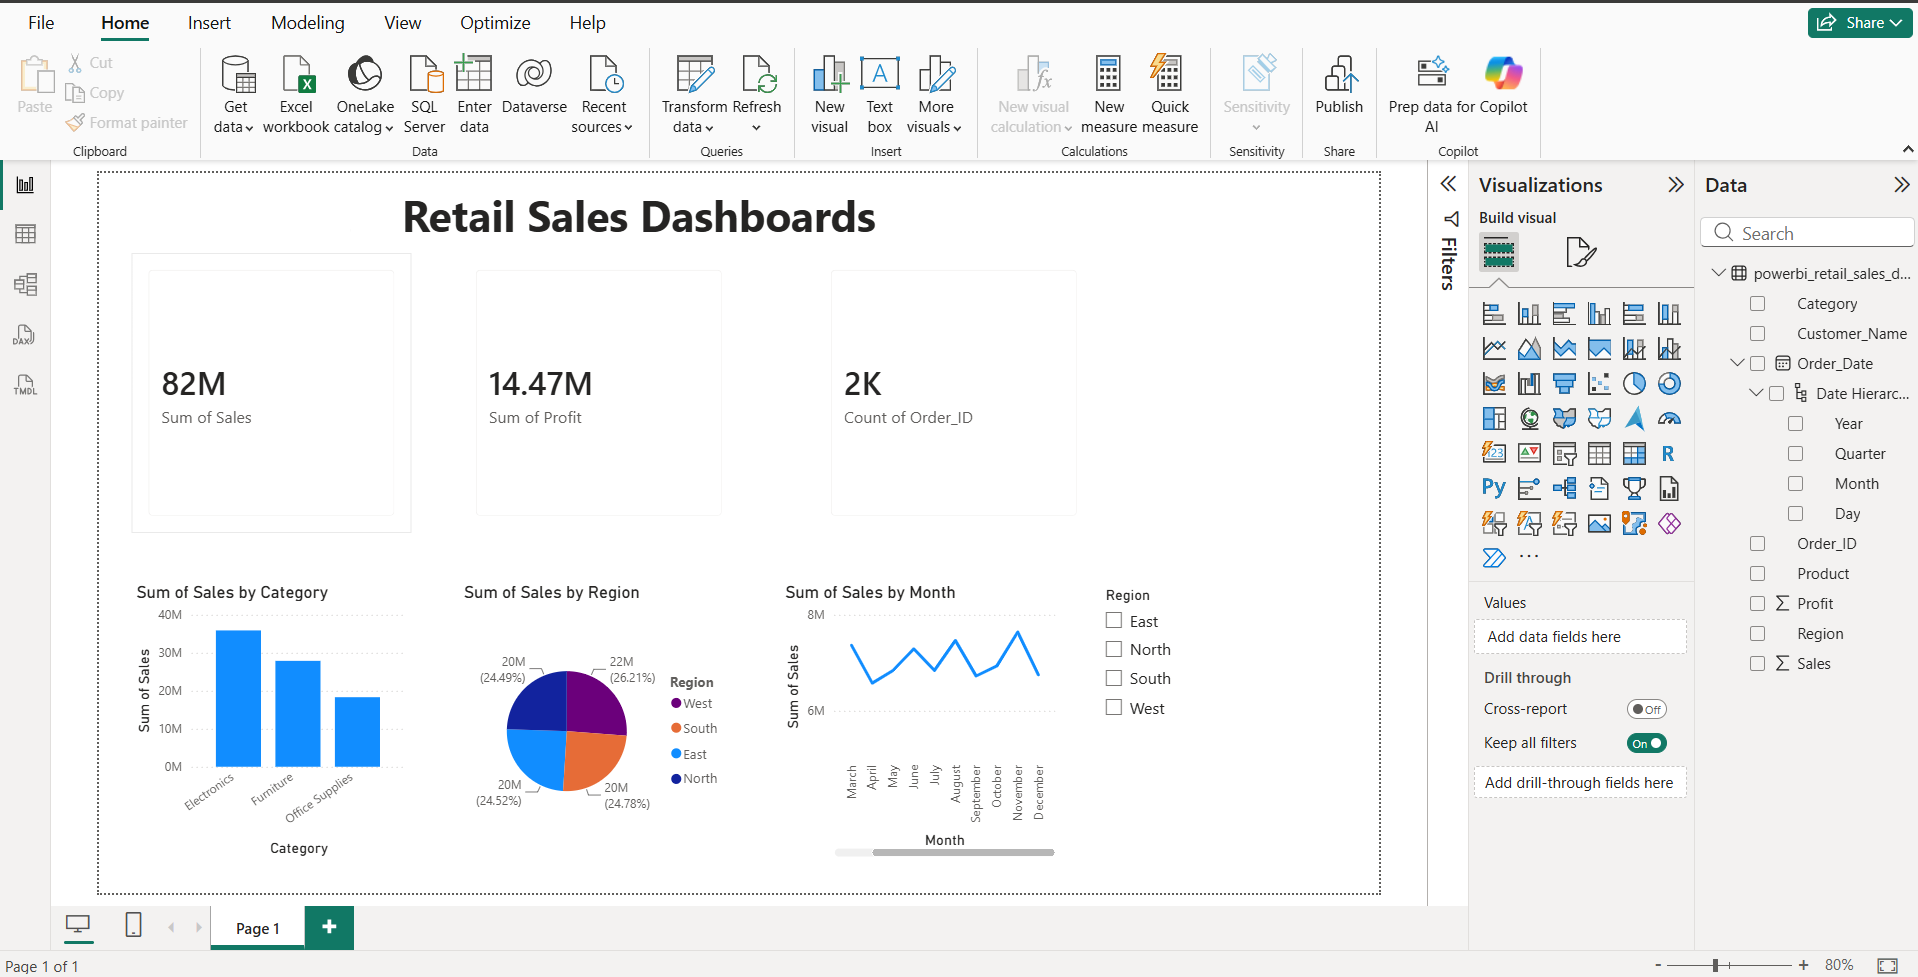

The page's visual inventory and layout, read from the dashboard file:
{"tool":"powerbi","page":{"name":"Page 1","canvas":[1280,720],"ordinal":0},"visuals":[{"type":"cardVisual","fields":{"Data":["Sum(powerbi_retail_sales_dataset.Sales)"]},"box":[32,80,280,280],"z":0},{"type":"cardVisual","fields":{"Data":["Sum(powerbi_retail_sales_dataset.Profit)"]},"box":[360,80,280,280],"z":1},{"type":"cardVisual","fields":{"Data":["CountNonNull(powerbi_retail_sales_dataset.Order_ID)"]},"box":[715,80,280,280],"z":2},{"type":"clusteredColumnChart","fields":{"Category":["powerbi_retail_sales_dataset.Category"],"Y":["Sum(powerbi_retail_sales_dataset.Sales)"]},"box":[32,409,280,280],"z":3},{"type":"pieChart","fields":{"Category":["powerbi_retail_sales_dataset.Region"],"Y":["Sum(powerbi_retail_sales_dataset.Sales)"]},"box":[360,409,280,280],"z":4},{"type":"textbox","box":[251,8,577,72],"z":5},{"type":"lineChart","fields":{"Category":["powerbi_retail_sales_dataset.Order_Date.Variation.Date Hierarchy.Month"],"Y":["Sum(powerbi_retail_sales_dataset.Sales)"]},"box":[681,409,280,280],"z":6},{"type":"slicer","fields":{"Values":["powerbi_retail_sales_dataset.Region"]},"box":[994,409,280,280],"z":7}]}

Visuals, with their boxes on the page's 1280x720 design canvas (x1, y1, x2, y2). These are canvas units, not pixel positions in the 1918x977 screenshot, which may show the page scaled, cropped or inside an application window:
cardVisual - Sum(powerbi_retail_sales_dataset.Sales): bbox(32, 80, 312, 360)
cardVisual - Sum(powerbi_retail_sales_dataset.Profit): bbox(360, 80, 640, 360)
cardVisual - CountNonNull(powerbi_retail_sales_dataset.Order_ID): bbox(715, 80, 995, 360)
clusteredColumnChart - powerbi_retail_sales_dataset.Category x Sum(powerbi_retail_sales_dataset.Sales): bbox(32, 409, 312, 689)
pieChart - powerbi_retail_sales_dataset.Region x Sum(powerbi_retail_sales_dataset.Sales): bbox(360, 409, 640, 689)
textbox: bbox(251, 8, 828, 80)
lineChart - powerbi_retail_sales_dataset.Order_Date.Variation.Date Hierarchy.Month x Sum(powerbi_retail_sales_dataset.Sales): bbox(681, 409, 961, 689)
slicer - powerbi_retail_sales_dataset.Region: bbox(994, 409, 1274, 689)
